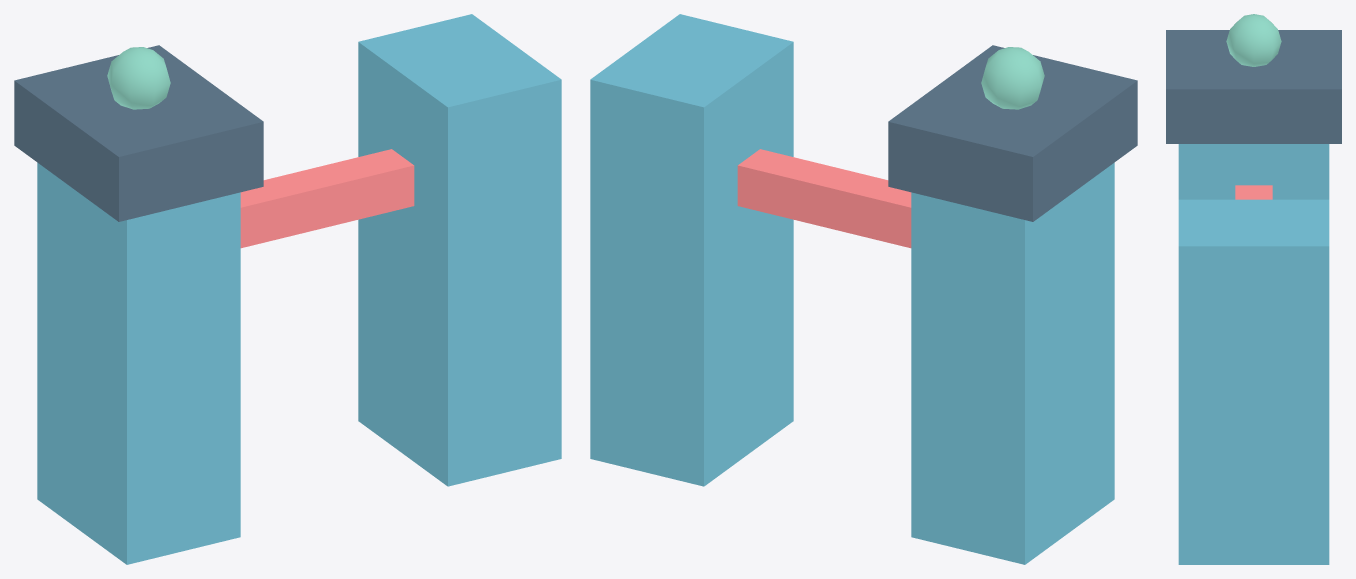
File: park-ticket-gate-pixel-8bit-3d.glb
The picture shows the model from 3 angles, left to right: view 1: azimuth 30°, elevation 25°; view 2: azimuth 150°, elevation 25°; view 3: azimuth 270°, elevation 25°; orthographic projection. The views are drawn at different scales.
Parts seen in each view (by area): view 1: exit-post, entrance-post, scanner, barrier-arm, status-light; view 2: exit-post, entrance-post, scanner, barrier-arm, status-light; view 3: exit-post, scanner, entrance-post, status-light, barrier-arm.
Boxes of the visible parts, <box> form: exit-post: <box>358,14,561,486</box>; entrance-post: <box>37,162,240,564</box>; scanner: <box>14,45,263,221</box>; barrier-arm: <box>240,149,414,248</box>; status-light: <box>107,47,170,109</box>; exit-post: <box>590,14,793,486</box>; entrance-post: <box>911,162,1114,564</box>; scanner: <box>888,45,1137,221</box>; barrier-arm: <box>737,149,911,248</box>; status-light: <box>981,47,1044,109</box>; exit-post: <box>1178,199,1329,564</box>; scanner: <box>1166,30,1341,143</box>; entrance-post: <box>1178,144,1329,199</box>; status-light: <box>1226,14,1281,66</box>; barrier-arm: <box>1235,185,1272,199</box>.
Bounding box in the file's own units: 1.74 × 1.73 × 0.7.
